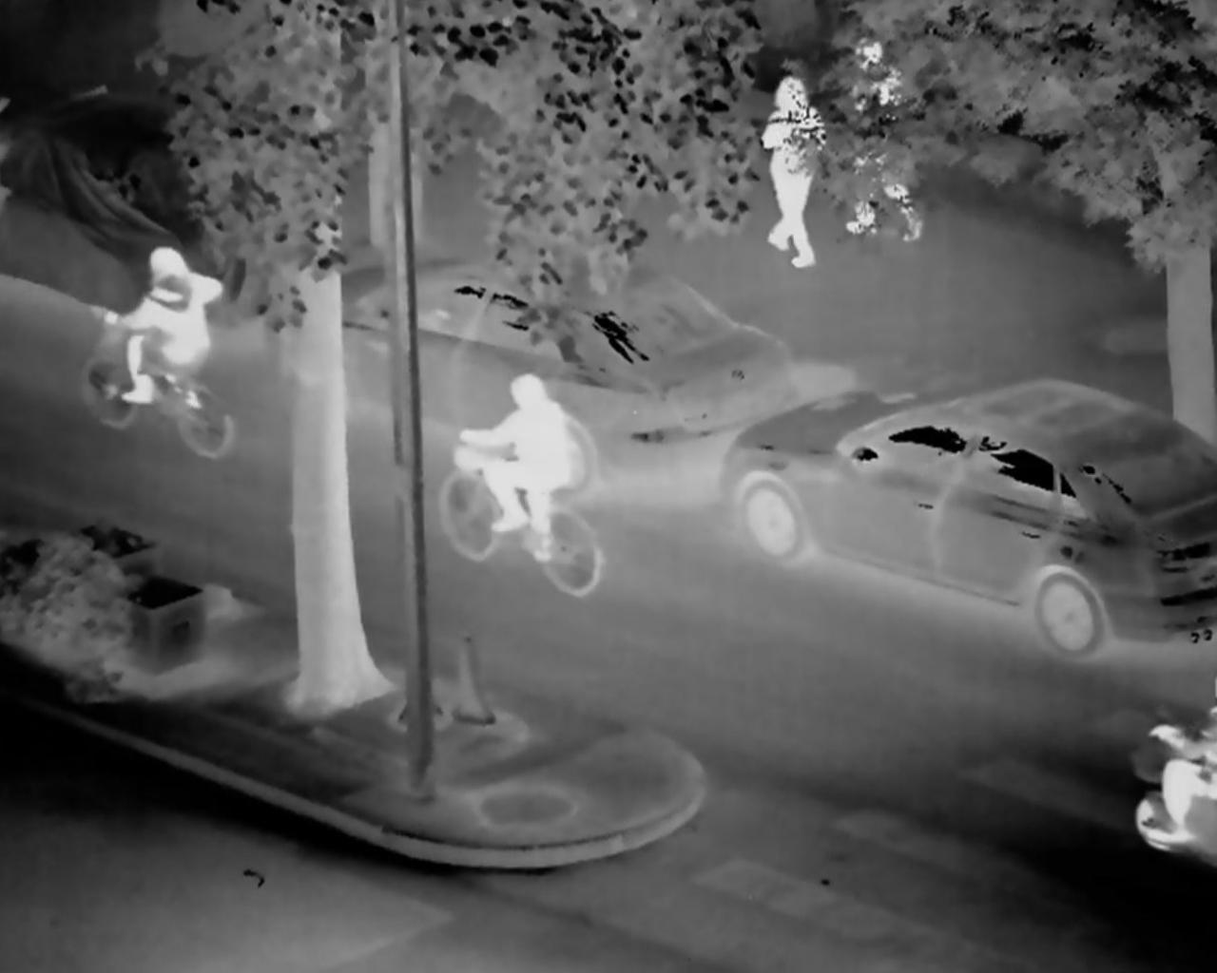person: (442, 372, 581, 599), (92, 238, 213, 426), (756, 71, 832, 277)
